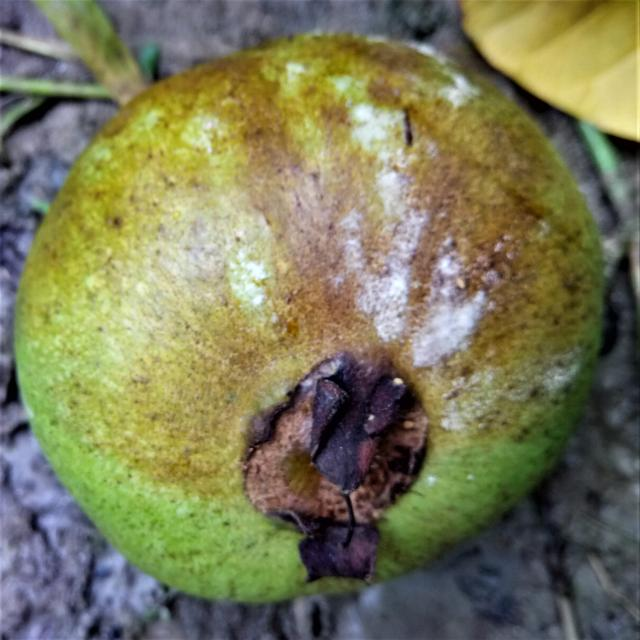Phytopthora: (16, 35, 604, 602)
